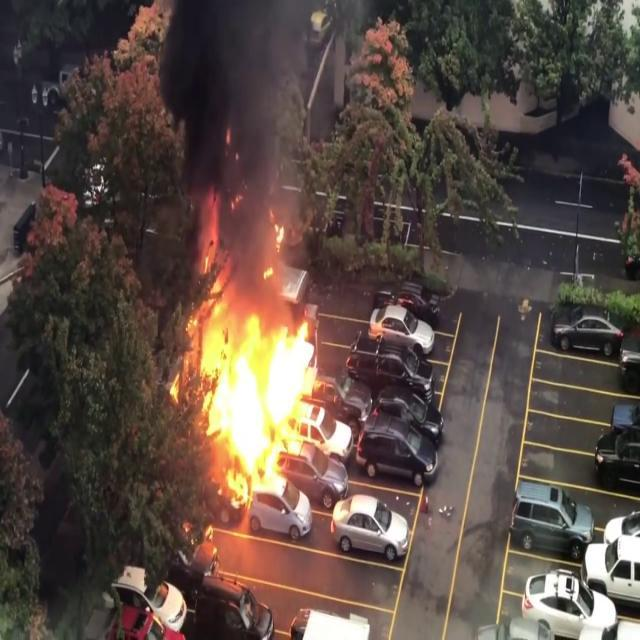Fire: (170, 217, 334, 502)
Smoke: (152, 0, 316, 279)
